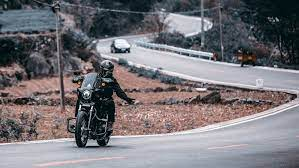moto: (70, 81, 115, 147)
person: (91, 55, 135, 108)
